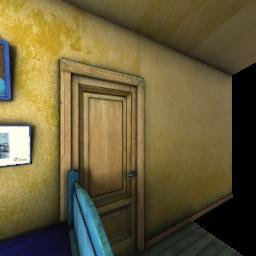door: (59, 72, 152, 251)
